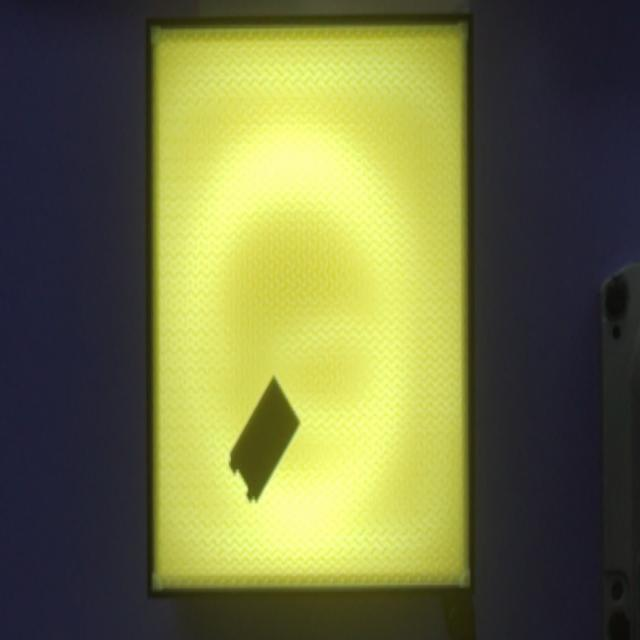bateria: (229, 376, 301, 504)
mesa: (146, 14, 476, 598)
